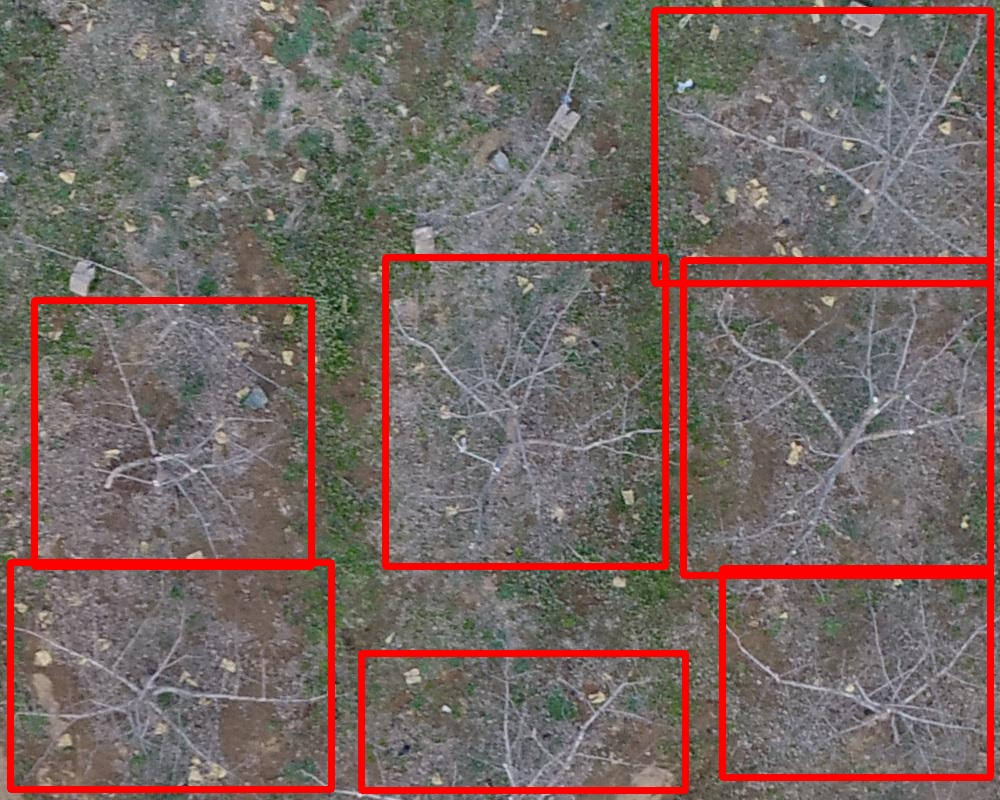apple: (683, 260, 990, 575), (654, 10, 990, 283), (385, 257, 665, 566), (34, 300, 311, 566), (10, 562, 331, 789), (722, 568, 990, 777), (361, 653, 685, 790)
